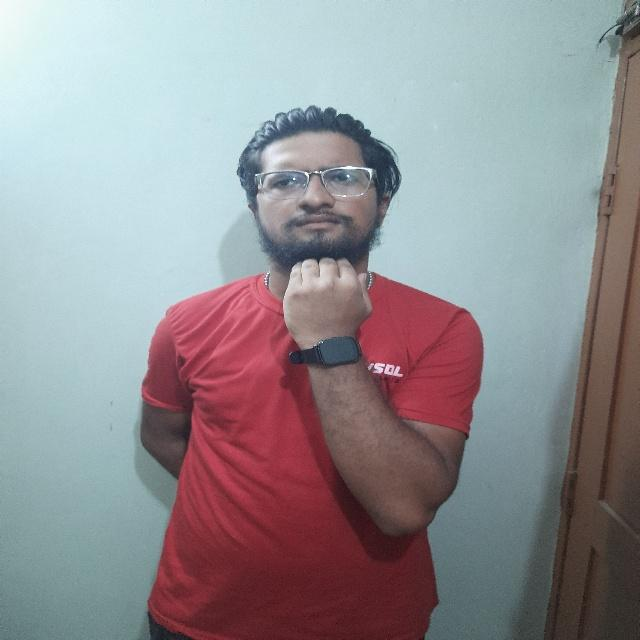Chin Flick: (240, 109, 395, 355)
